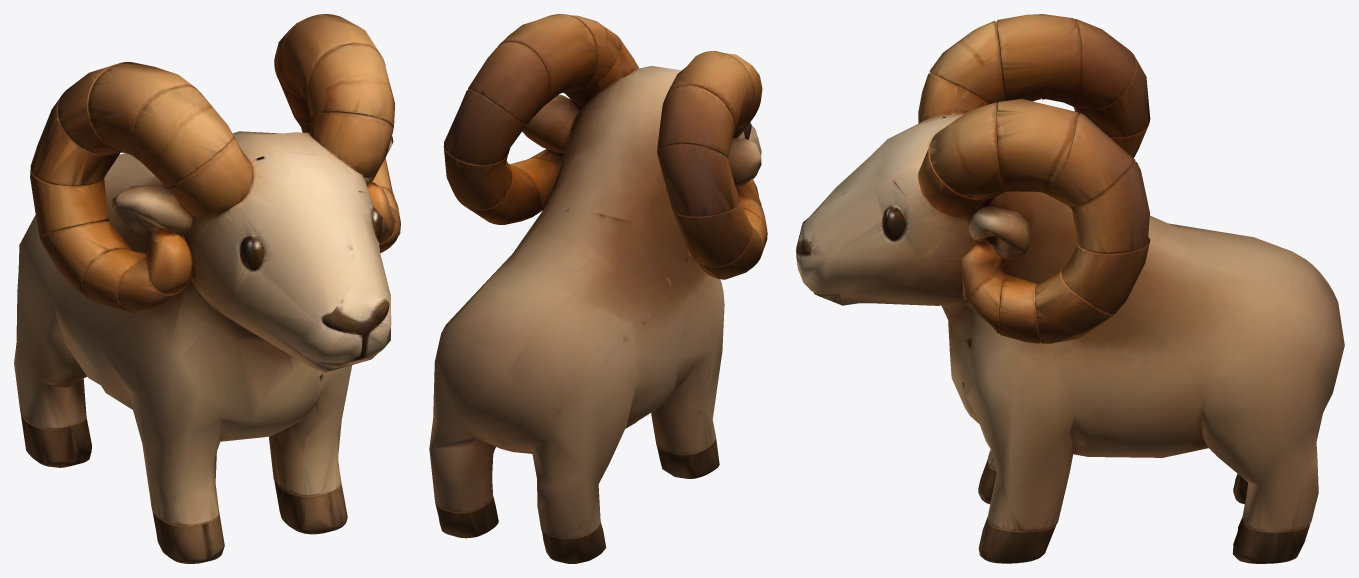
Rendered from ram_pbr.glb.
The picture shows the model from 3 angles, left to right: view 1: azimuth 30°, elevation 25°; view 2: azimuth 150°, elevation 25°; view 3: azimuth 270°, elevation 25°; orthographic projection. The views are drawn at different scales.
Visible parts, largest first — view 1: model; view 2: model; view 3: model.
Boxes of the visible parts, x1,y1,x2,y2 form: model: (14,14,400,563); model: (429,14,767,563); model: (796,14,1344,563).
Size of the model in its own units: 1.24 by 1.69 by 1.82.
Materials: 1 (1 with a texture image).
